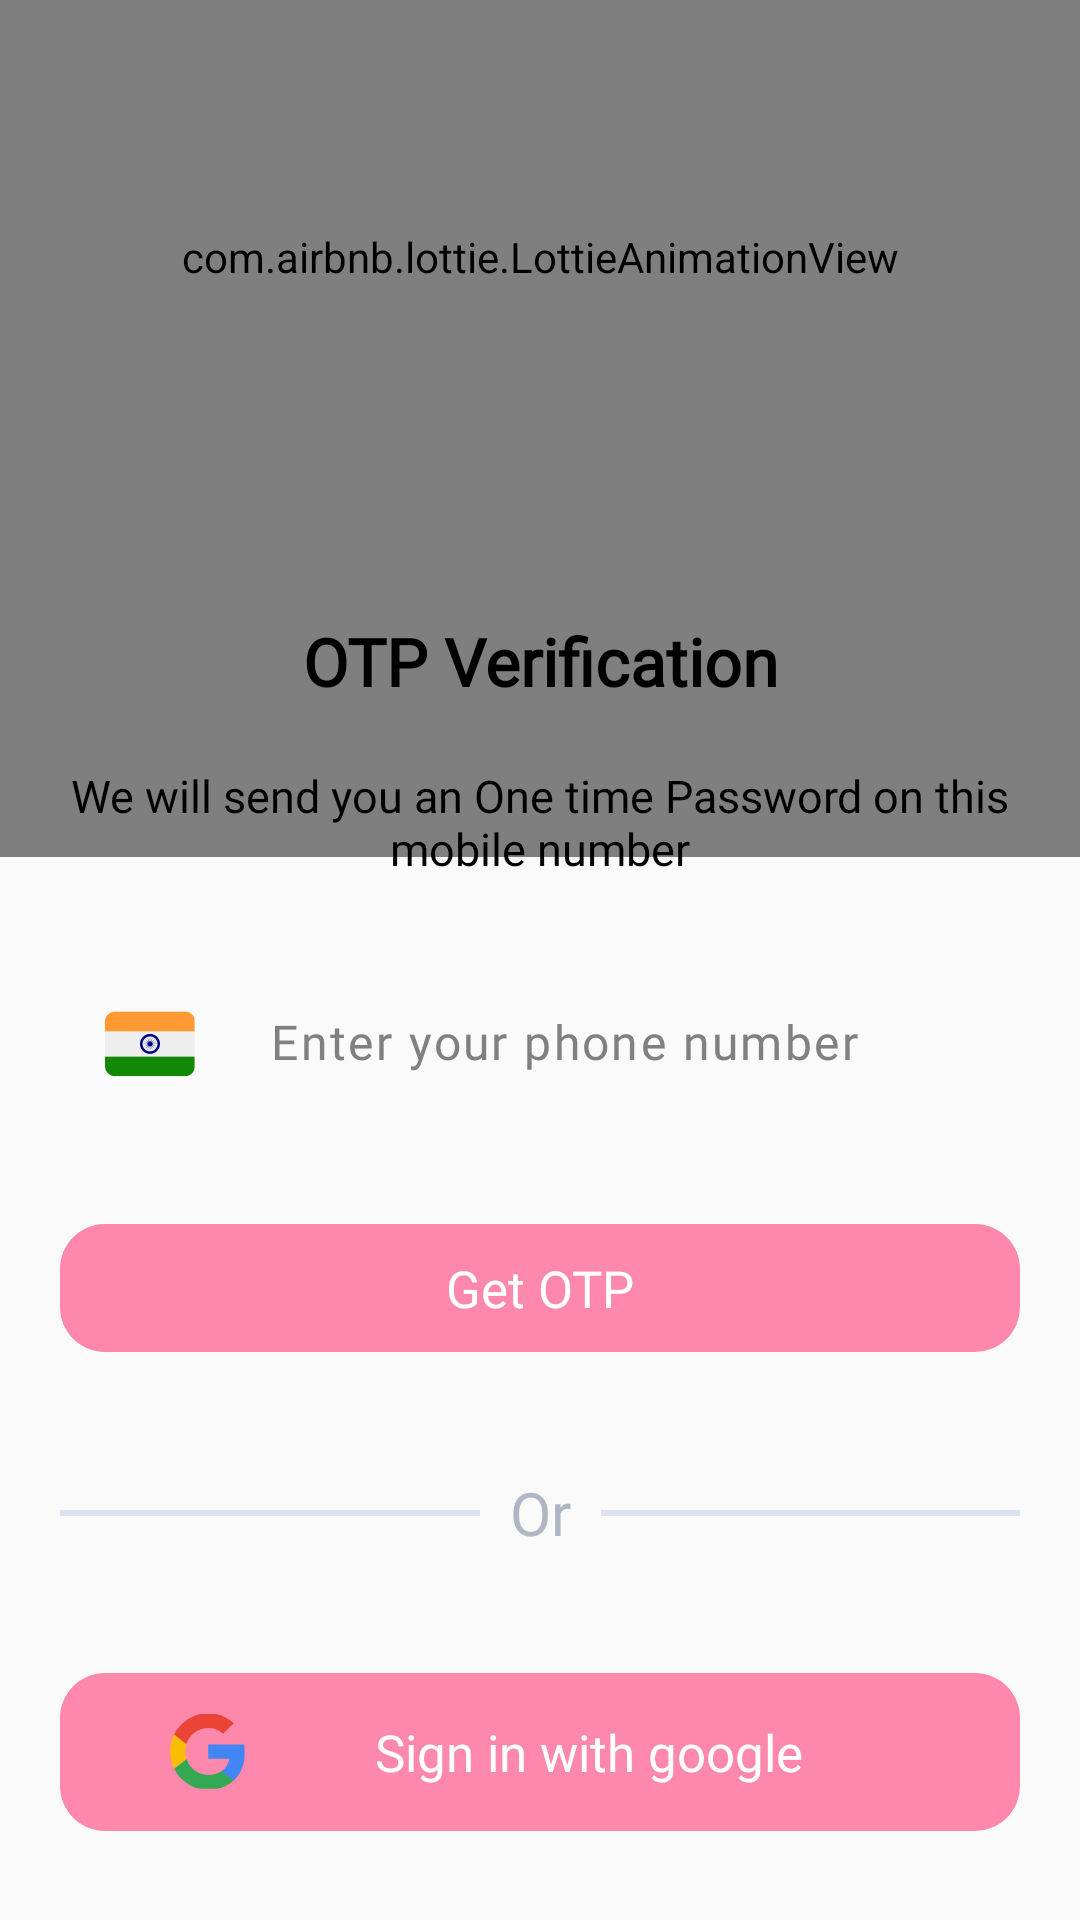

Named icons in this screenshot (1080px x 1920px) and their bounding boxes, bbox(x1, y1, x2, y2):
flag: bbox(105, 1011, 195, 1076)
